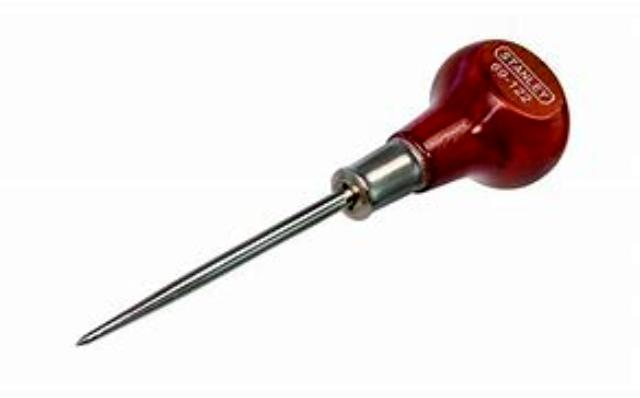ice pick: (80, 42, 580, 370)
